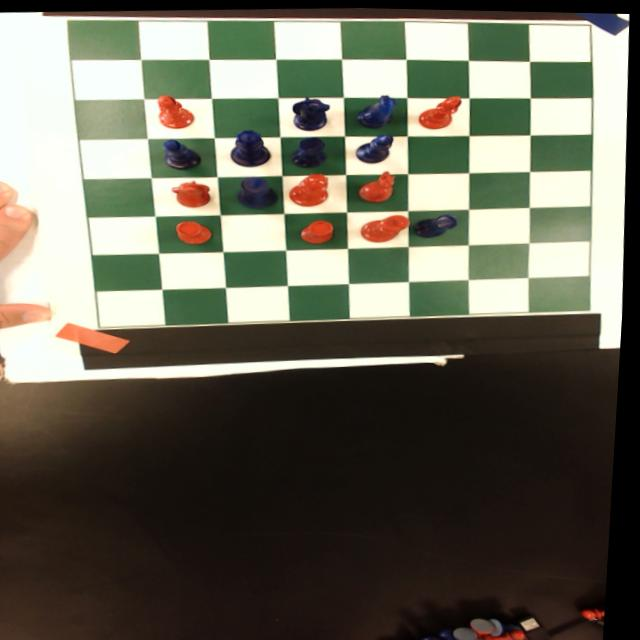B: (156, 134, 206, 169), (355, 128, 398, 162)
K: (234, 173, 283, 210)
N: (287, 92, 336, 130), (353, 89, 402, 126)
Q: (227, 125, 276, 166)
R: (288, 133, 333, 166), (413, 209, 463, 237)
b: (149, 91, 200, 130), (417, 91, 467, 128)
k: (362, 211, 416, 241)
n: (356, 165, 401, 201), (170, 175, 216, 208)
q: (291, 168, 334, 205)
r: (173, 216, 218, 243), (299, 215, 339, 242)
